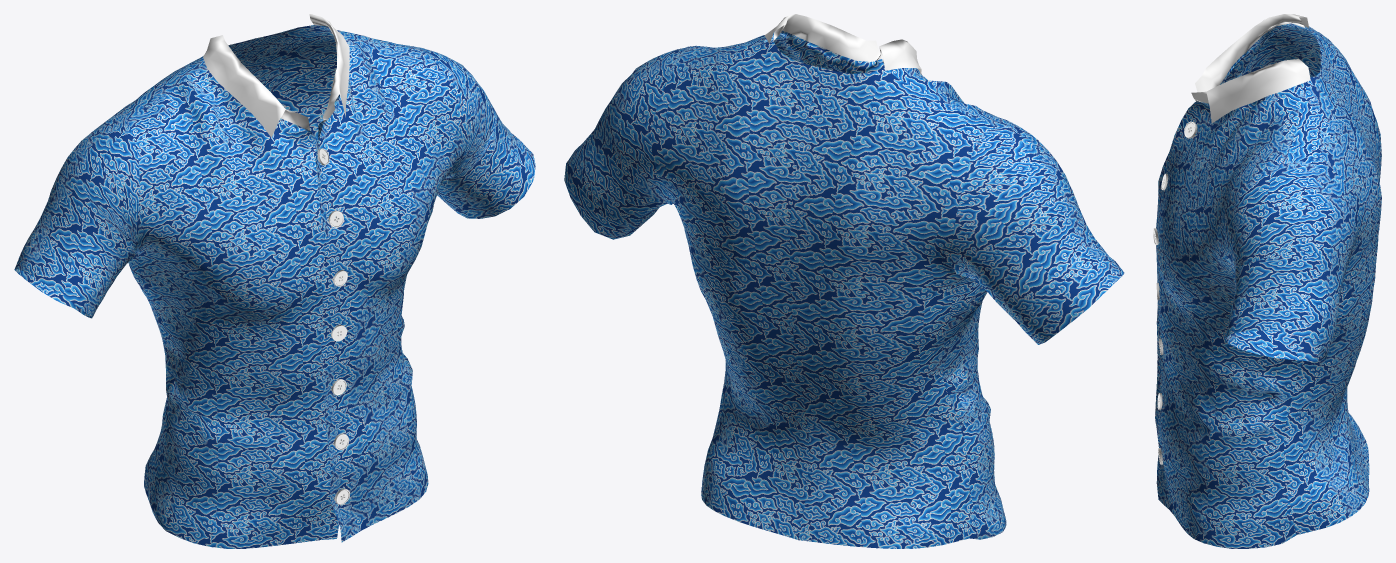
File: PakaianBase.fbx
The picture shows the model from 3 angles, left to right: view 1: azimuth 30°, elevation 25°; view 2: azimuth 150°, elevation 25°; view 3: azimuth 270°, elevation 25°; orthographic projection. The views are drawn at different scales.
Visible parts, largest first — view 1: PakaianBase; view 2: PakaianBase; view 3: PakaianBase.
Part boxes in pixels (x1,y1,x2,y2): PakaianBase: (14,14,535,548); PakaianBase: (564,14,1124,548); PakaianBase: (1153,14,1381,548).
Size of the model in its own units: 676 by 602 by 271.
Materials: 4 (2 with a texture image).
